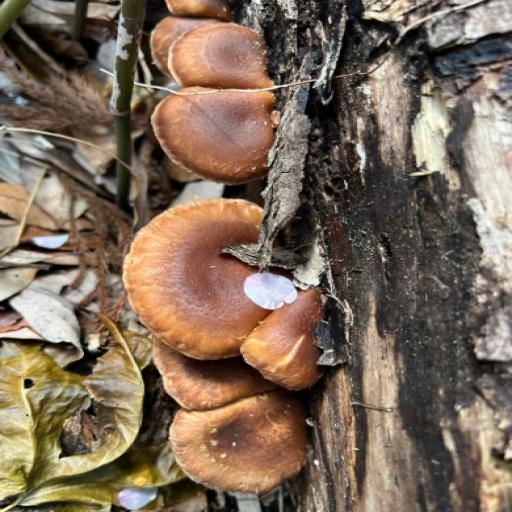Shiitake Mushroom: (122, 9, 371, 501)
